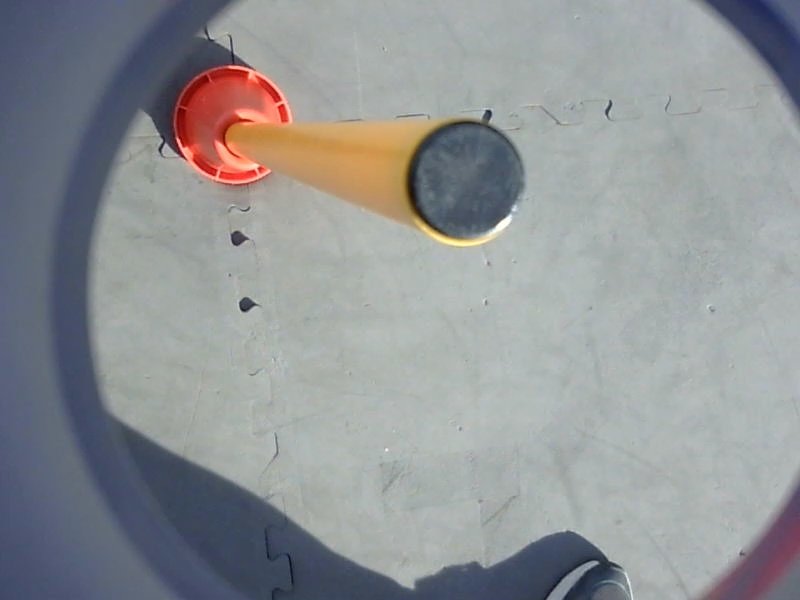tip: (391, 113, 534, 256)
